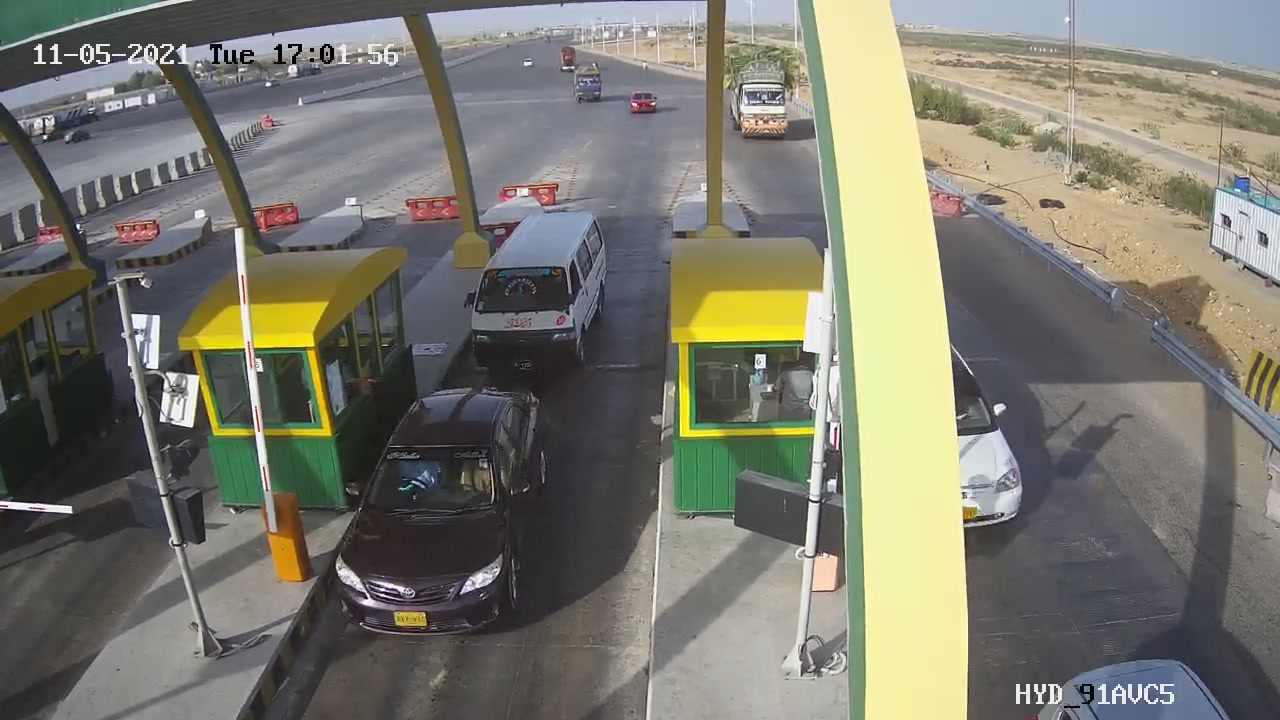F1: (316, 375, 570, 649)
F2: (456, 203, 619, 368)
